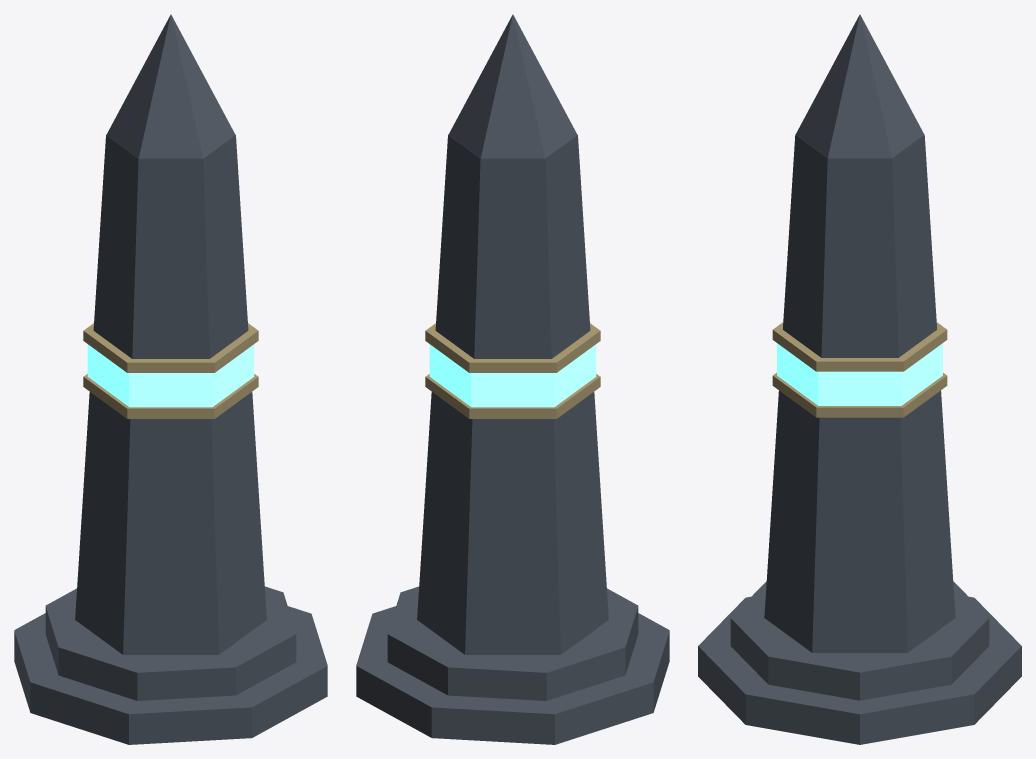
Rendered from elven_monolith_detailed.glb.
3 renders of one model, left to right at view 1: azimuth 30°, elevation 25°; view 2: azimuth 150°, elevation 25°; view 3: azimuth 270°, elevation 25°, orthographic.
Parts seen in each view (by area): view 1: Cone, Cylinder, Cylinder.001, Cone.001, Cylinder.004, Cylinder.003, Cylinder.002; view 2: Cone, Cylinder, Cylinder.001, Cone.001, Cylinder.004, Cylinder.003, Cylinder.002; view 3: Cone, Cylinder, Cylinder.001, Cone.001, Cylinder.004, Cylinder.003, Cylinder.002.
Boxes of the visible parts, bbox=[...] form: Cone: bbox=[75, 135, 266, 654]; Cylinder: bbox=[14, 606, 327, 744]; Cylinder.001: bbox=[45, 586, 296, 700]; Cone.001: bbox=[106, 14, 235, 158]; Cylinder.004: bbox=[87, 344, 254, 407]; Cylinder.003: bbox=[83, 323, 258, 372]; Cylinder.002: bbox=[83, 374, 258, 418]; Cone: bbox=[417, 135, 608, 654]; Cylinder: bbox=[356, 606, 669, 744]; Cylinder.001: bbox=[387, 586, 638, 700]; Cone.001: bbox=[448, 14, 577, 158]; Cylinder.004: bbox=[429, 344, 596, 407]; Cylinder.003: bbox=[425, 323, 600, 372]; Cylinder.002: bbox=[425, 374, 600, 418]; Cone: bbox=[764, 134, 955, 652]; Cylinder: bbox=[698, 596, 1021, 744]; Cylinder.001: bbox=[730, 581, 989, 700]; Cone.001: bbox=[795, 14, 924, 157]; Cylinder.004: bbox=[777, 343, 942, 405]; Cylinder.003: bbox=[772, 322, 947, 371]; Cylinder.002: bbox=[772, 373, 947, 417].
Bounding box in the file's own units: 2.3 × 5.19 × 2.3.
